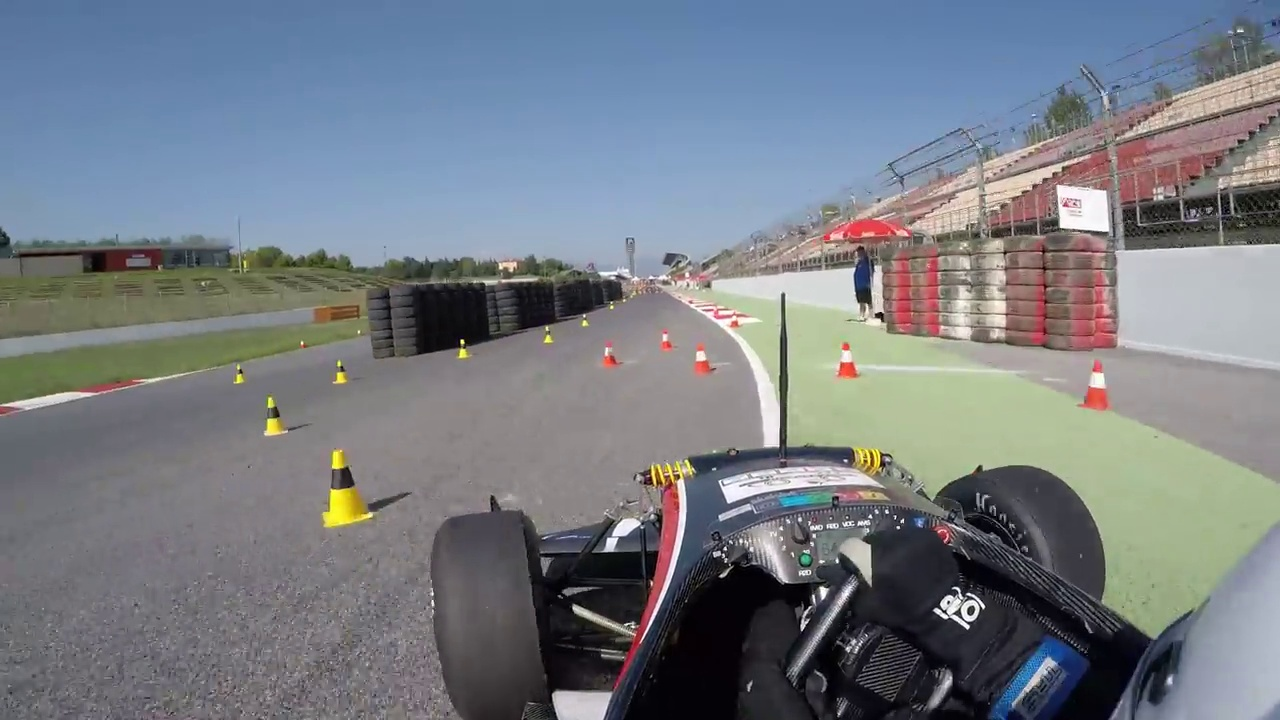Cone: (321, 449, 370, 526), (1080, 357, 1115, 409), (261, 395, 289, 436), (834, 341, 862, 376), (691, 340, 715, 375)
